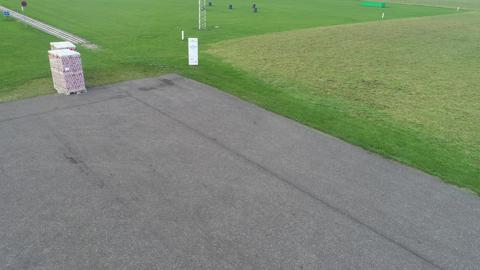RockwoolPallet: (49, 40, 77, 53)
